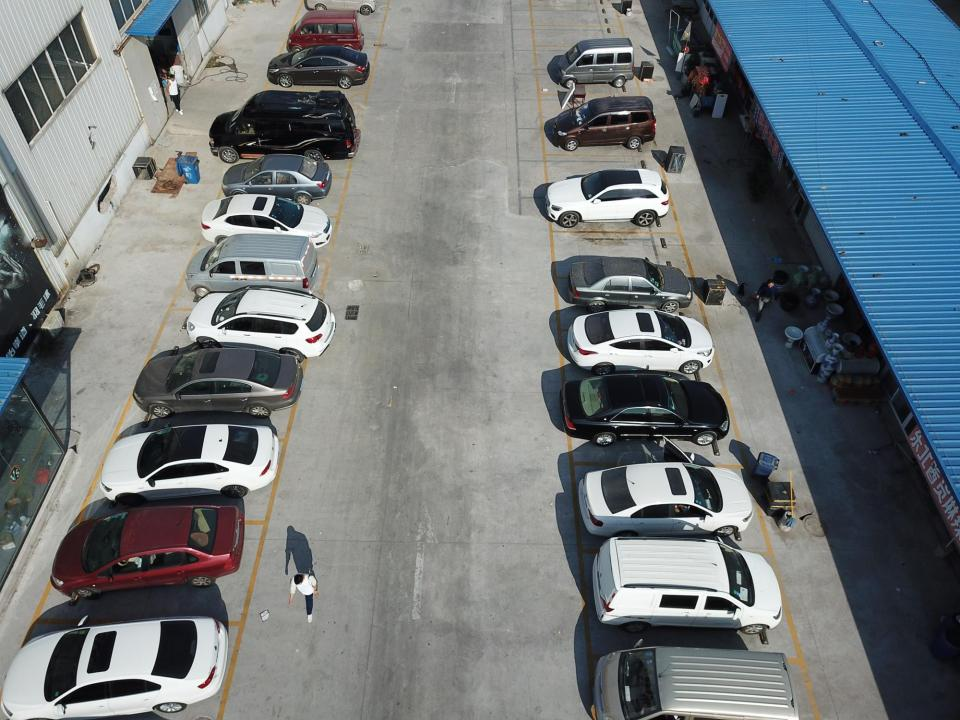car: (5, 615, 230, 711), (590, 536, 786, 633), (53, 500, 243, 590), (591, 645, 802, 720), (578, 457, 751, 534), (557, 372, 731, 447), (101, 420, 281, 492), (133, 350, 302, 419), (208, 90, 362, 162), (564, 308, 717, 375), (189, 287, 337, 356), (183, 233, 320, 294), (545, 167, 670, 228), (566, 255, 695, 312), (198, 194, 332, 248), (550, 94, 658, 151), (222, 154, 330, 203), (265, 46, 370, 88), (555, 37, 636, 87), (284, 8, 364, 46), (305, 0, 375, 16)
